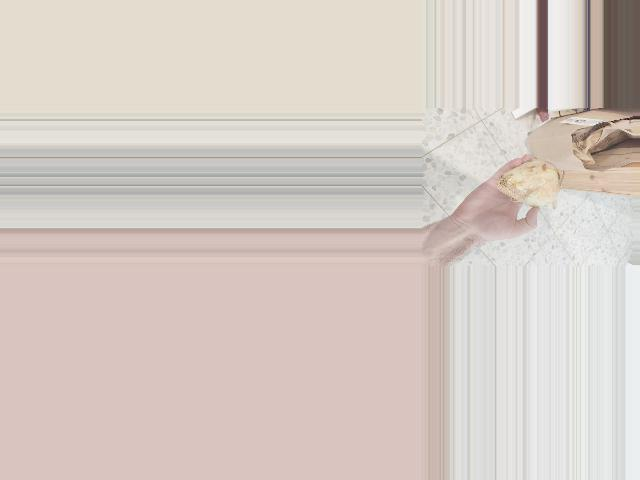onion: (494, 159, 565, 206)
